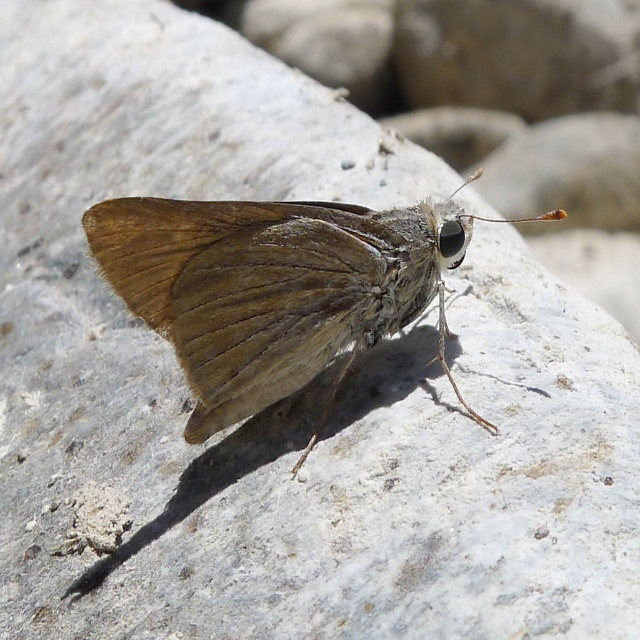Butterfly: (75, 139, 562, 467)
